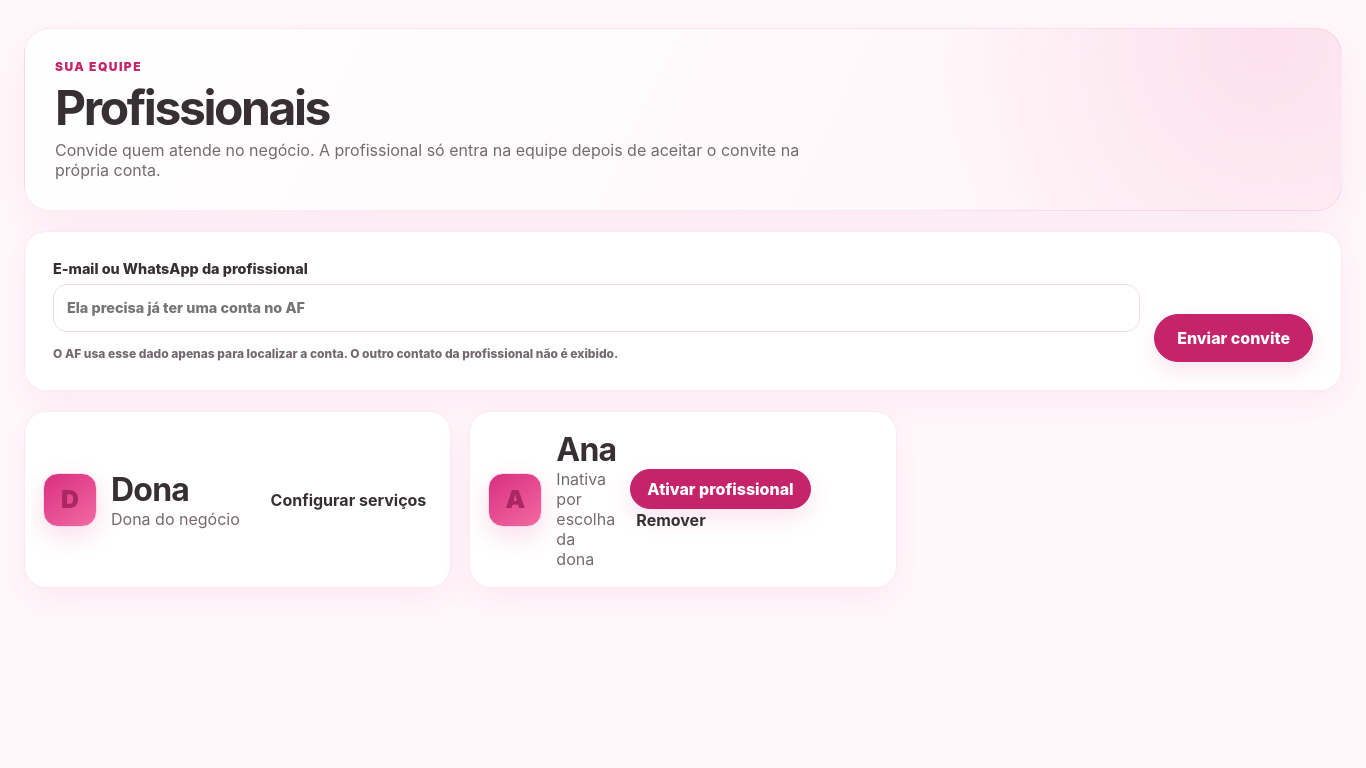
it: consistência das alterações da equipe › preserva ativação confirmada com GET falho e recupera só a leitura
Step 1. Click the button "Ativar profissional" → x=720, y=489, box [630, 469, 811, 509]
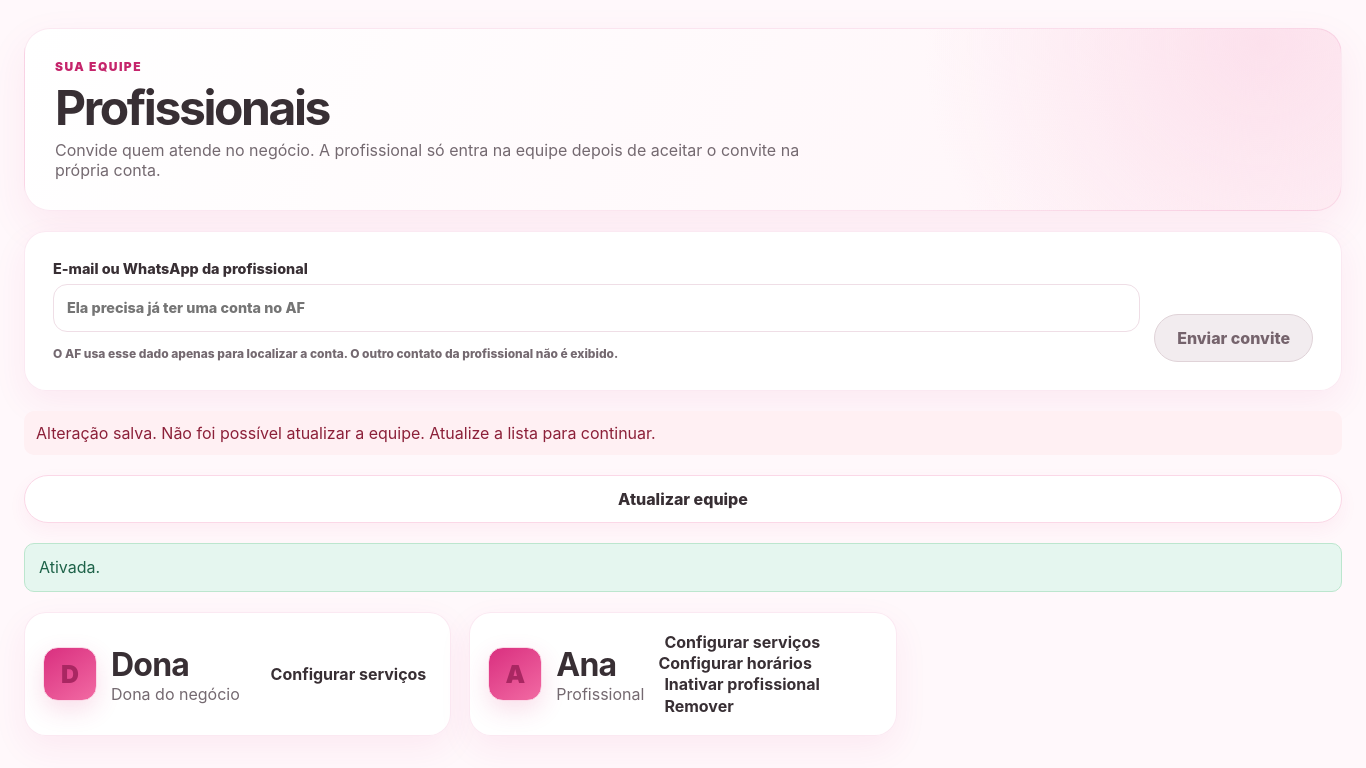
Now the text "Alteração salva" is shown, box [36, 423, 656, 443]
Now the button "Inativar profissional" is disabled, box [658, 673, 826, 695]
Step 2. Click the button "Atualizar equipe" → x=683, y=499, box [24, 475, 1342, 523]
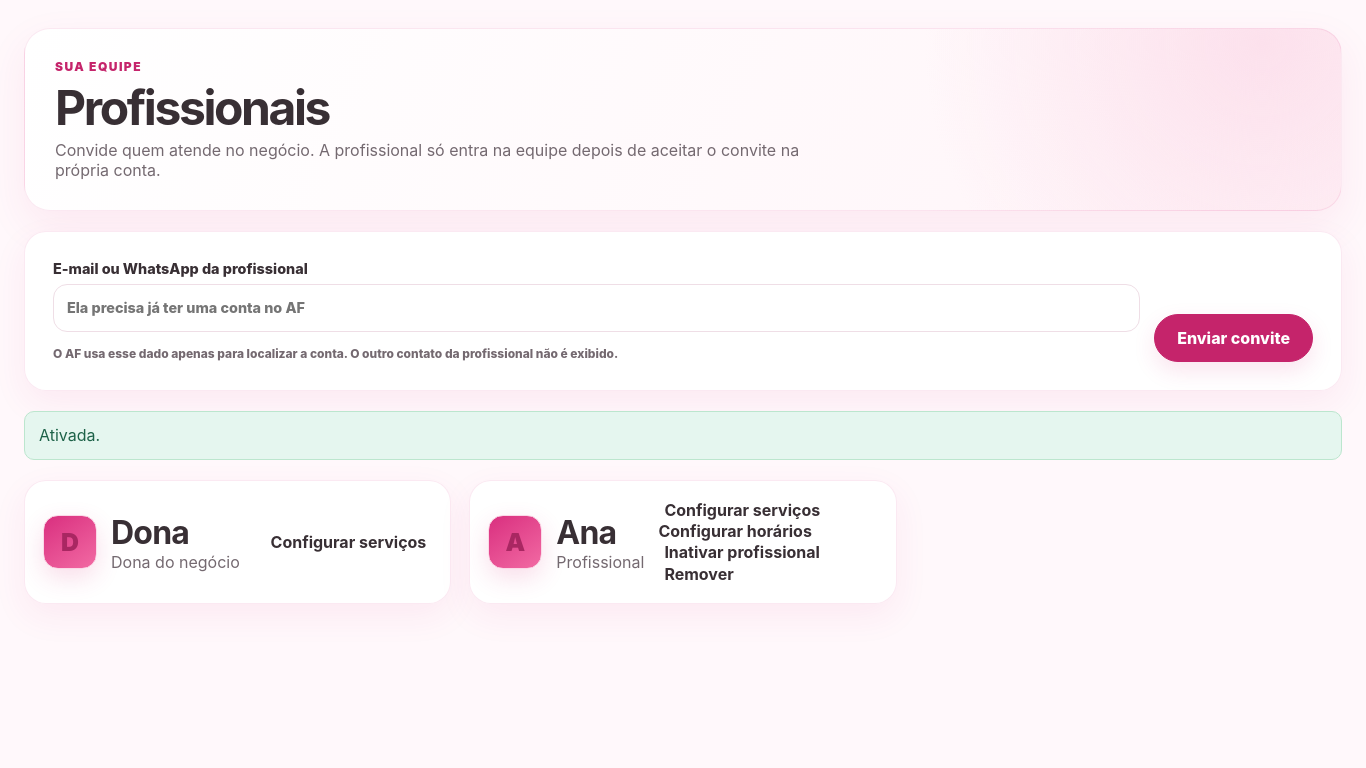
Now the button "Inativar profissional" is enabled, box [658, 541, 826, 563]
